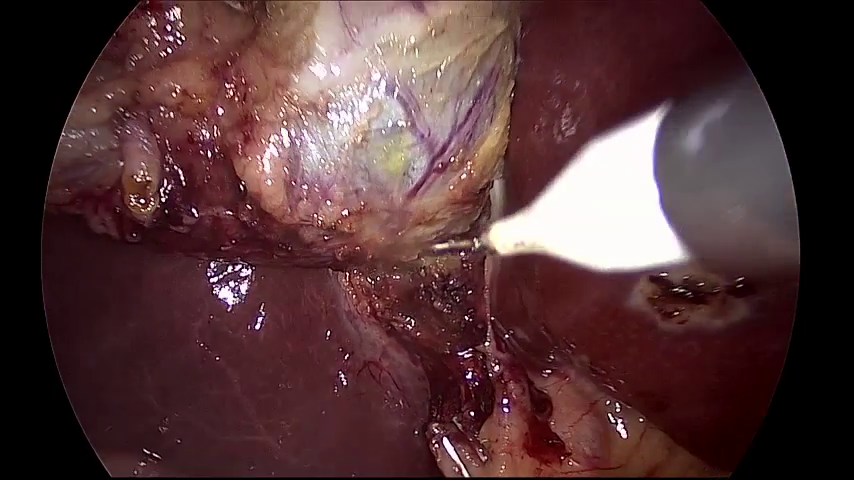lhook: (430, 71, 800, 271)
